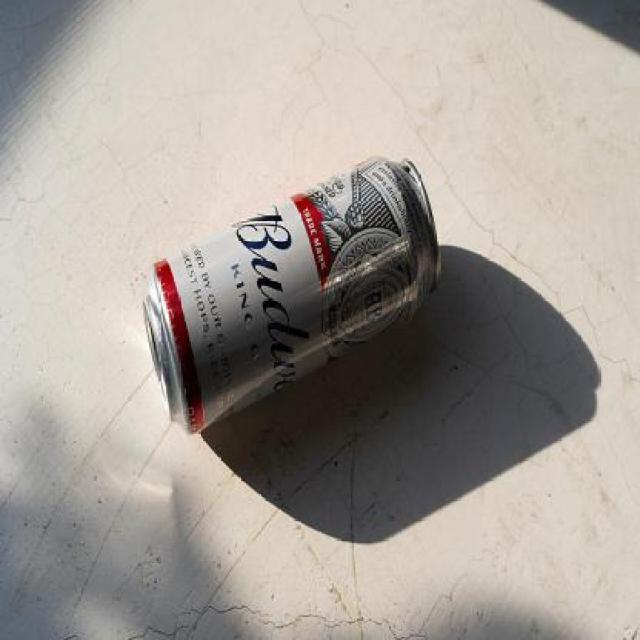can: (119, 140, 470, 476)
